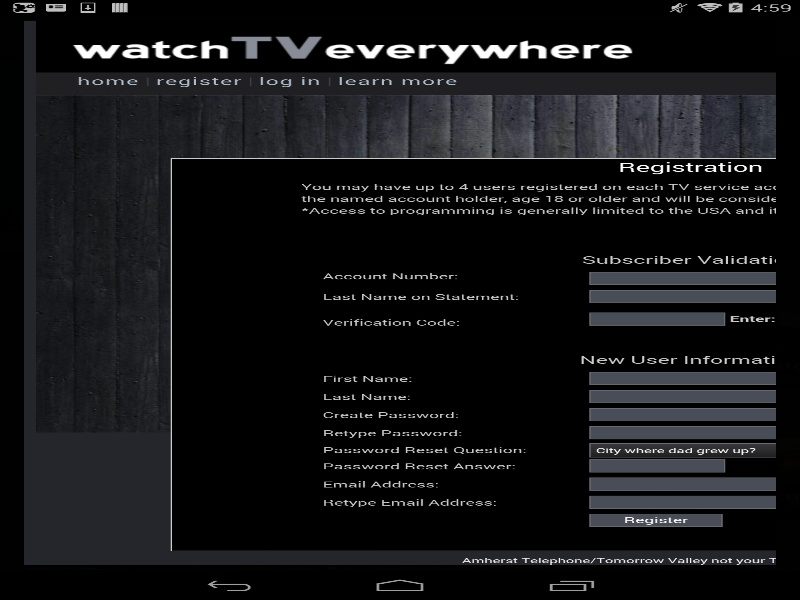Button: (589, 513, 722, 526)
Input: (589, 312, 725, 325), (589, 459, 725, 472)
